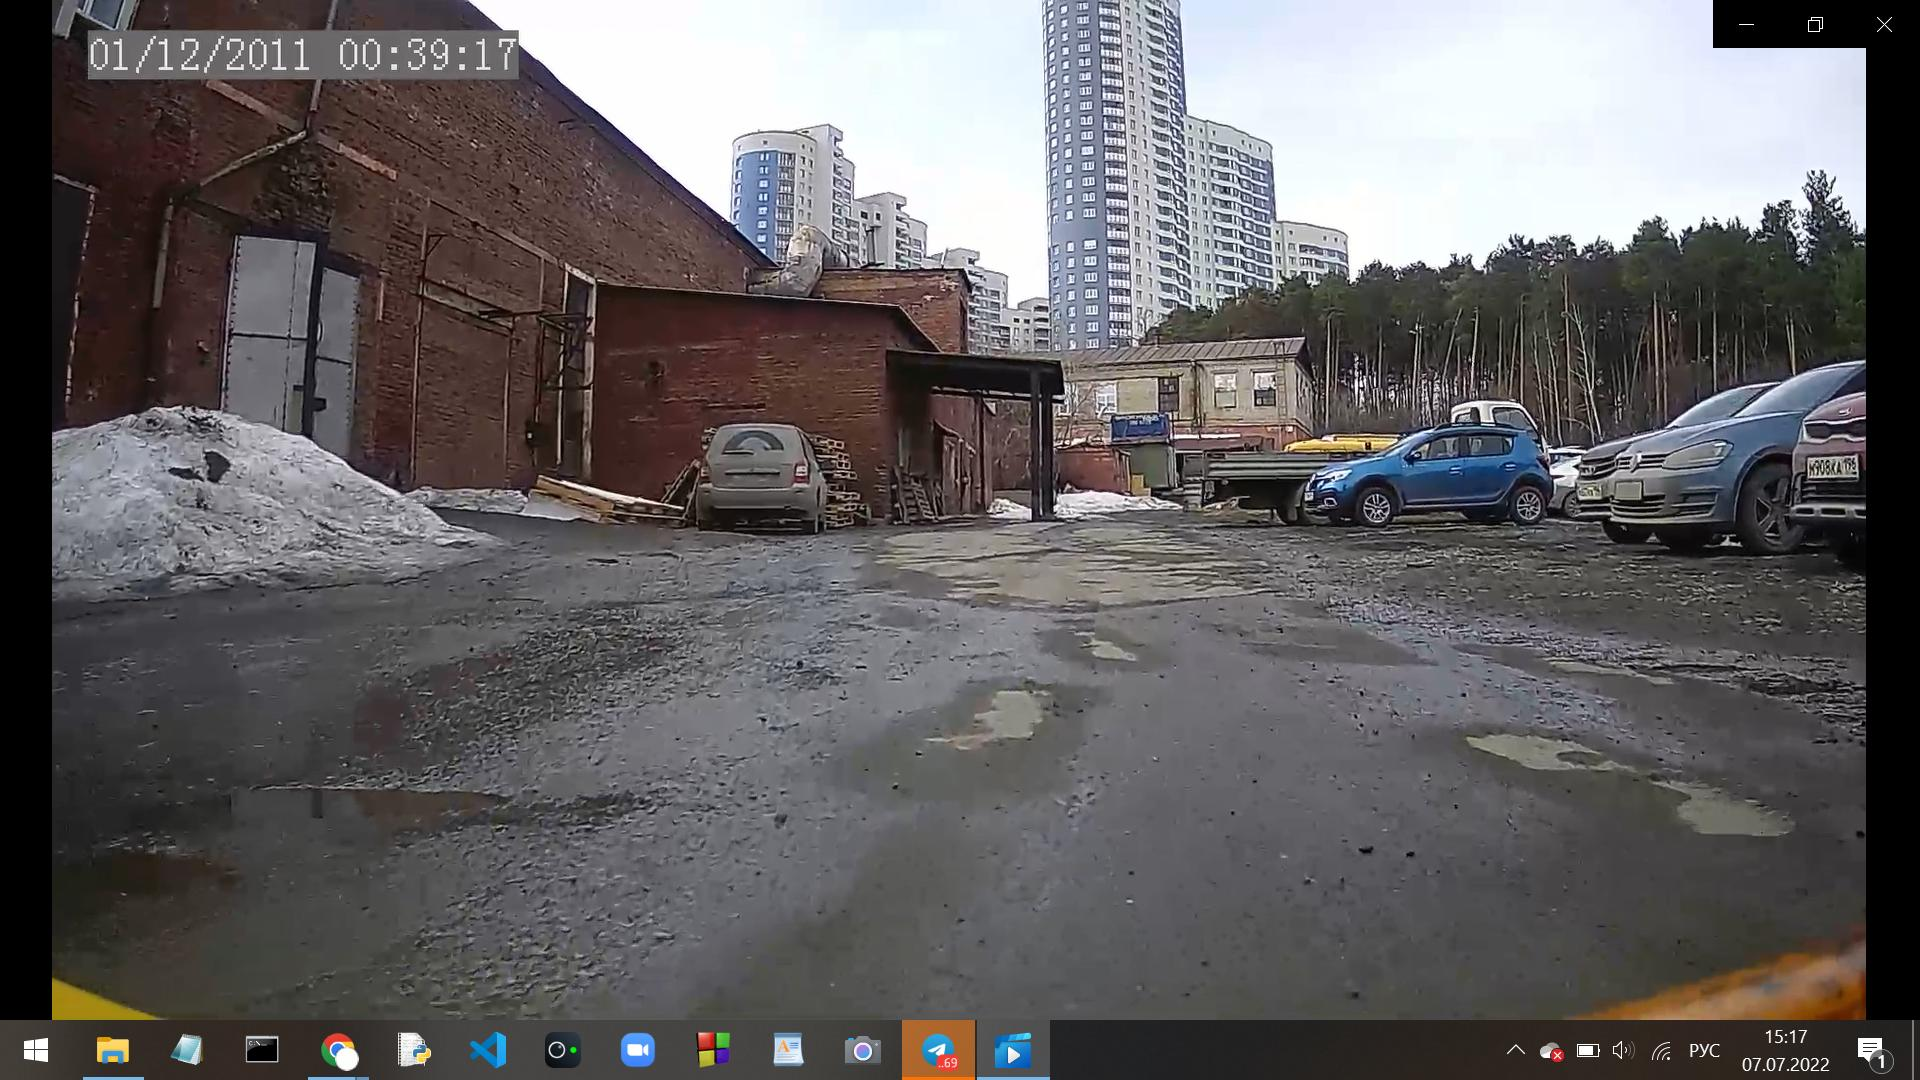plate: (1807, 458, 1857, 480)
